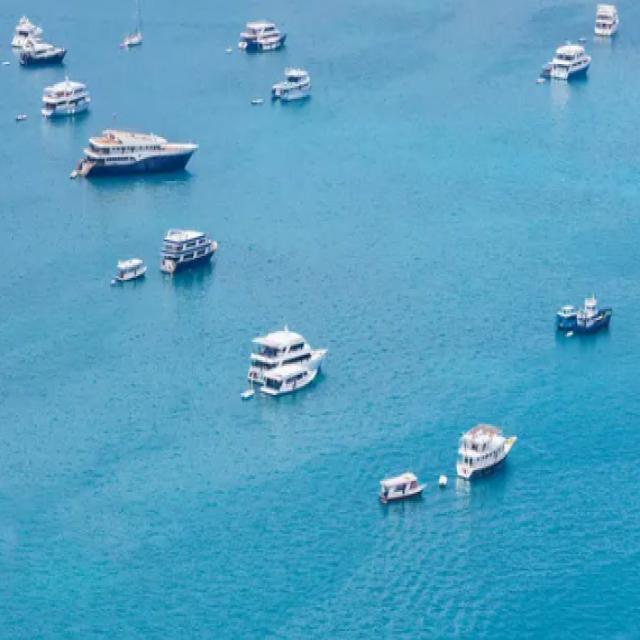houseboat: (245, 322, 326, 397), (83, 124, 198, 170), (456, 419, 520, 484), (160, 220, 218, 270), (41, 71, 92, 121), (376, 466, 429, 507), (553, 36, 591, 84), (576, 288, 612, 334), (240, 19, 288, 52), (273, 67, 312, 103), (19, 36, 66, 63), (10, 11, 42, 46), (594, 1, 624, 36), (113, 256, 146, 283), (558, 298, 580, 336)
